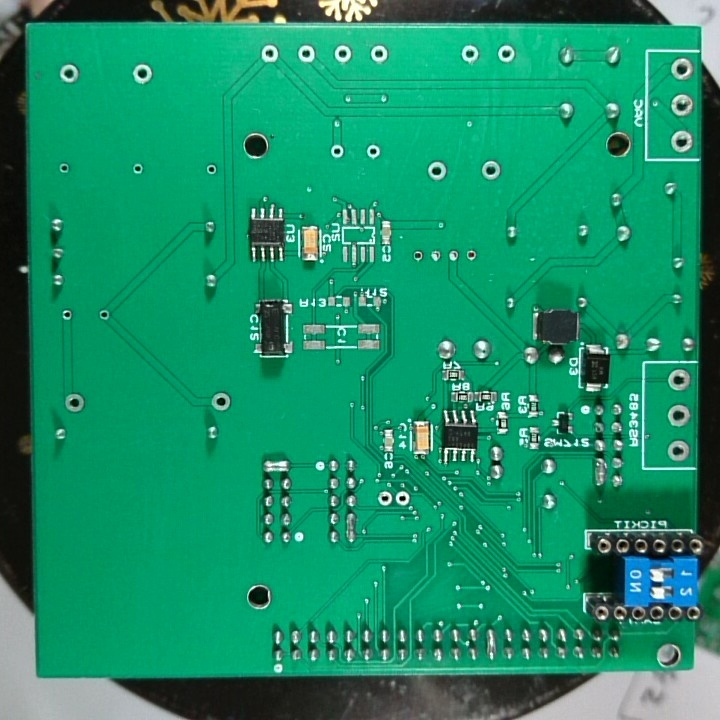F: (665, 401, 693, 430), (668, 55, 696, 83), (668, 128, 696, 156), (666, 438, 694, 464), (670, 92, 696, 120), (666, 367, 692, 394), (209, 389, 235, 415), (424, 158, 449, 185), (55, 59, 79, 87), (494, 42, 519, 67), (479, 157, 503, 183), (130, 63, 154, 88), (331, 42, 354, 67), (62, 392, 86, 415), (259, 42, 282, 66), (368, 43, 391, 66), (459, 43, 481, 66), (297, 42, 317, 65), (328, 141, 348, 162), (362, 141, 382, 162), (376, 488, 394, 510), (394, 488, 411, 509), (59, 306, 77, 325), (128, 160, 145, 180), (463, 246, 480, 265), (202, 160, 219, 179), (446, 246, 462, 266), (411, 246, 425, 266), (56, 161, 73, 176), (428, 248, 442, 266), (96, 307, 111, 323)
P: (591, 455, 608, 489), (483, 626, 499, 662), (261, 458, 294, 475), (343, 511, 359, 544)
